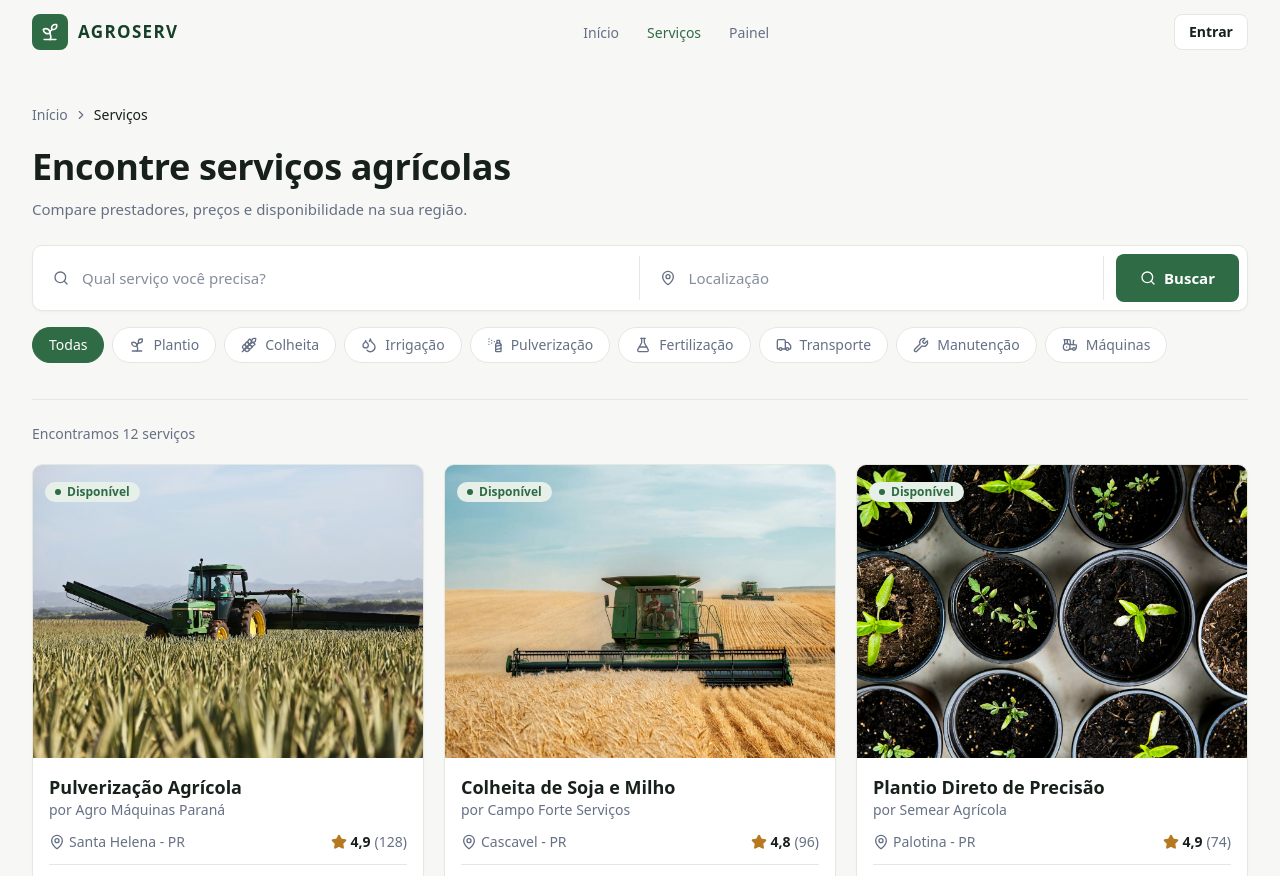
Test case: ServicesPage › filters by category chip
Click the button "Pulverização". click: (540,345)
box: top-left (470, 327), bottom-right (610, 363)
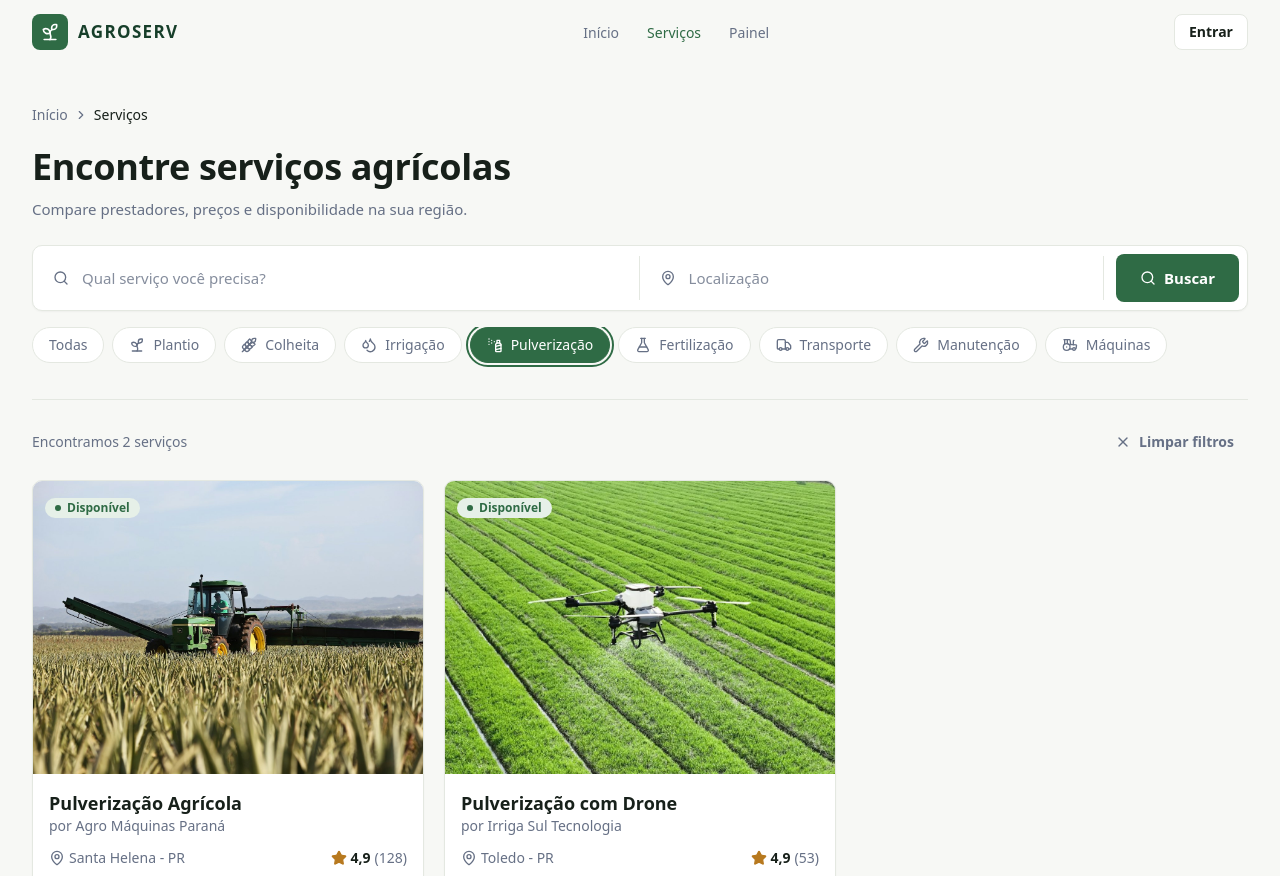
Check: the text "Encontramos 2 serviços" is shown, box top-left (32, 432), bottom-right (187, 452)
